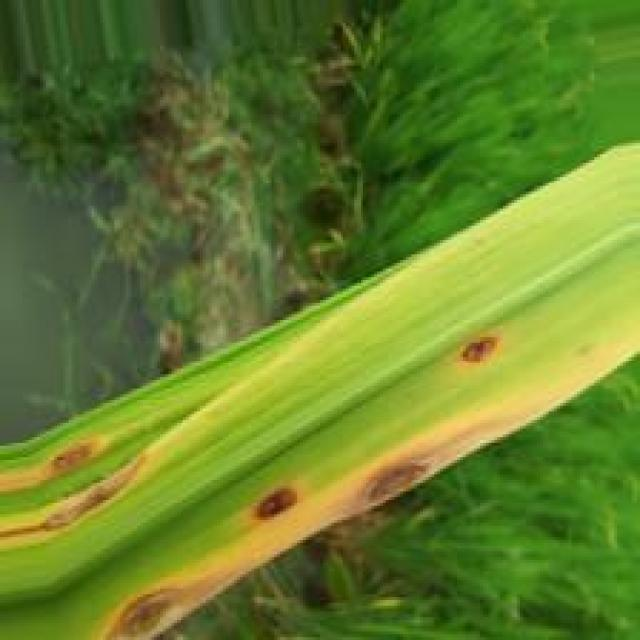Brown_Spot: (0, 449, 158, 544), (105, 560, 260, 640), (357, 438, 449, 512), (38, 432, 111, 491), (239, 475, 314, 530), (452, 326, 511, 364)
